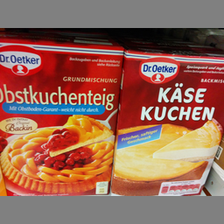cake: (1, 38, 124, 197), (111, 42, 223, 198)
